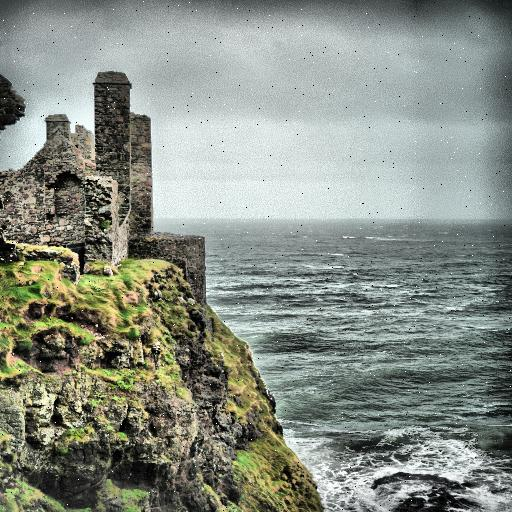person: (0, 41, 212, 320), (0, 71, 206, 308)
